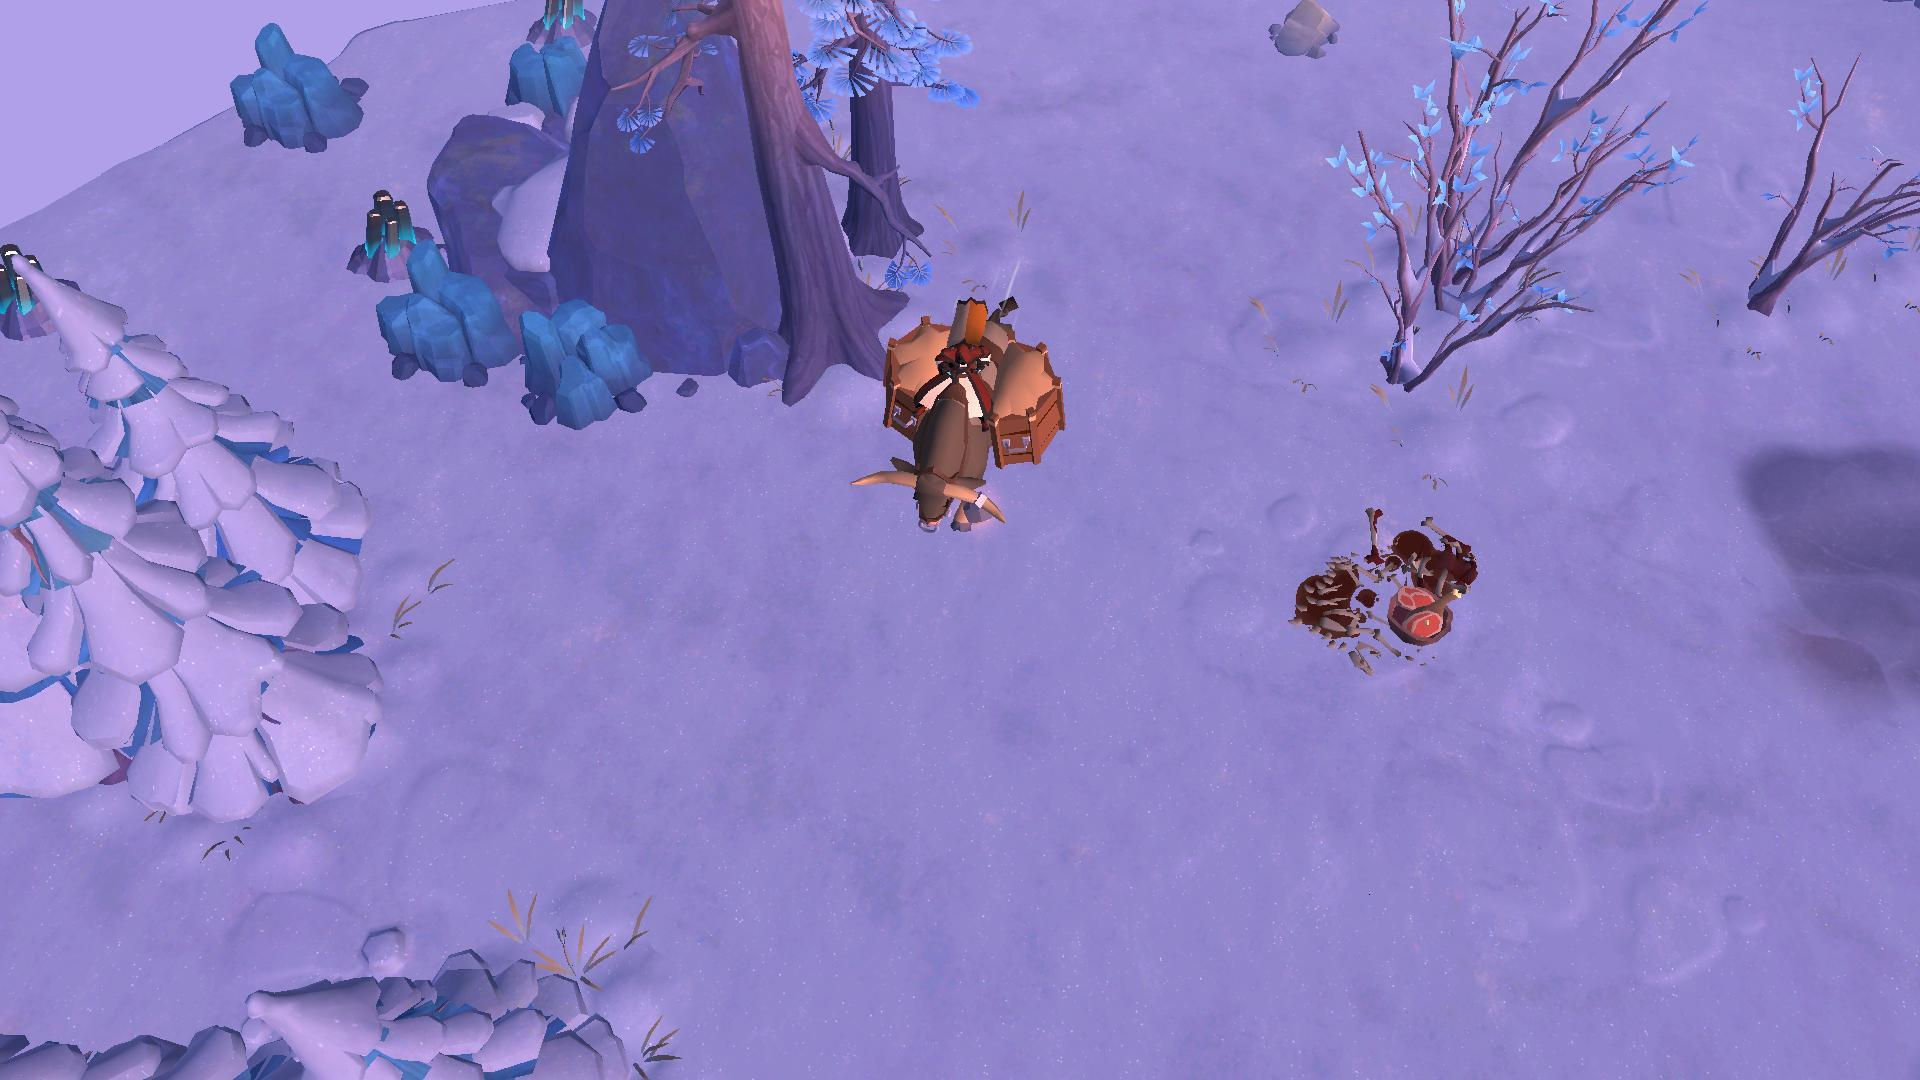ore_t4: (0, 229, 58, 327), (356, 182, 421, 265)
rock_t4: (377, 235, 514, 410), (516, 285, 666, 443), (231, 13, 369, 150), (492, 28, 595, 127)
